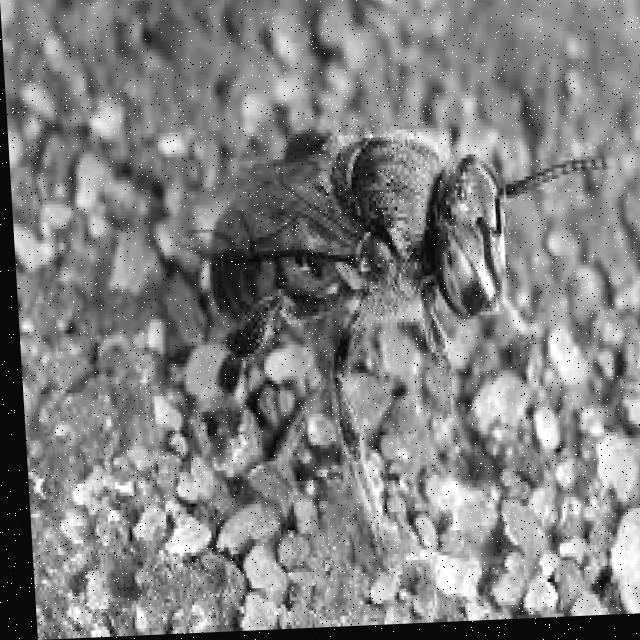Meliponula: (201, 85, 556, 421)
